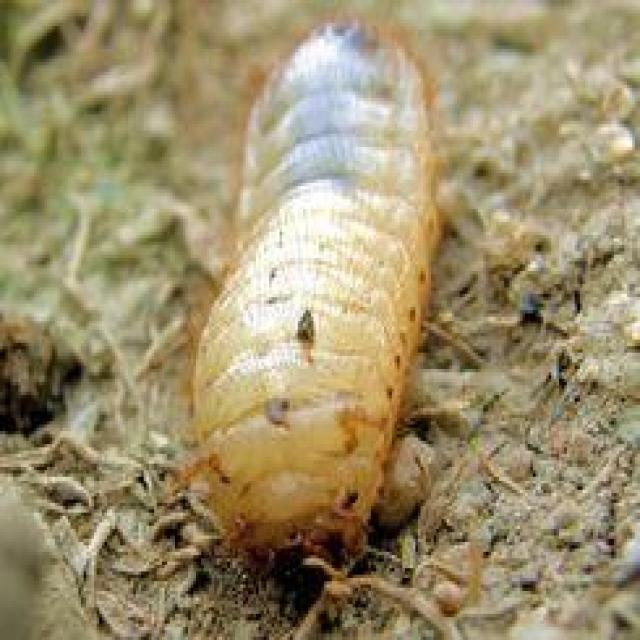Grub-Adult-: (156, 10, 474, 580)
